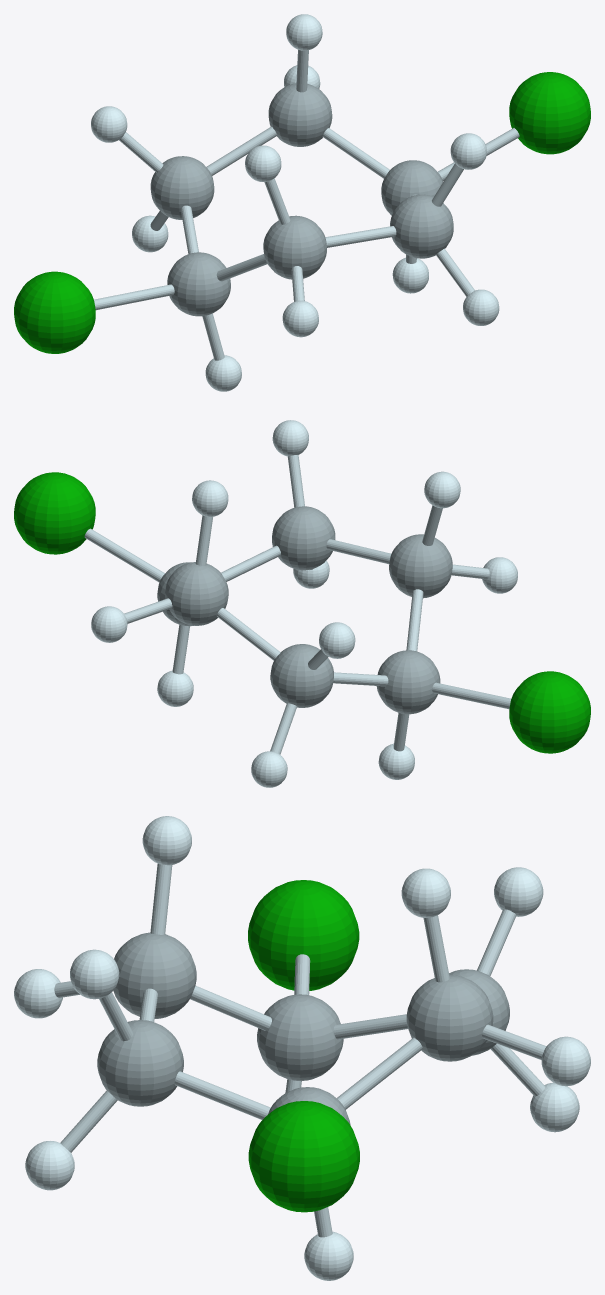
File: irc_step_119.glb
The picture shows the model from 3 angles, top to bottom: view 1: azimuth 30°, elevation 25°; view 2: azimuth 150°, elevation 25°; view 3: azimuth 270°, elevation 25°; orthographic projection. The views are drawn at different scales.
Visible parts, largest first — view 1: Renderer Node; view 2: Renderer Node; view 3: Renderer Node.
Part boxes in pixels (left/top/right/bottom): Renderer Node: left=14, top=14, right=590, bottom=391; Renderer Node: left=14, top=420, right=590, bottom=787; Renderer Node: left=14, top=816, right=590, bottom=1280.
Size of the model in its own units: 7.14 by 3.64 by 4.65.
